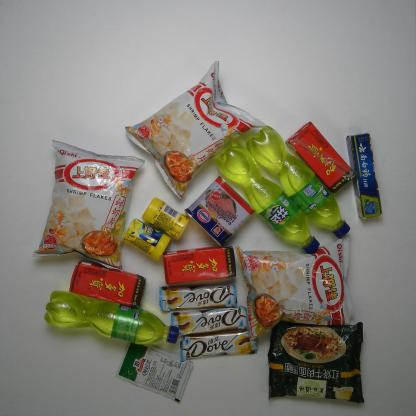Canned Food: (182, 174, 257, 250)
Chocolate: (178, 326, 260, 364), (168, 304, 252, 340), (157, 281, 240, 313)
Drink: (242, 123, 352, 241), (213, 140, 322, 257), (41, 287, 182, 348), (283, 118, 359, 196), (65, 257, 148, 311), (161, 243, 239, 286)
Gum: (139, 196, 193, 243), (119, 216, 173, 262)
Instant Noodles: (265, 316, 367, 409)
Personal Hygiene: (342, 130, 385, 220)
Puffed Food: (122, 58, 271, 202), (30, 136, 146, 274), (228, 228, 361, 342)
Seasoner: (113, 338, 196, 404)
